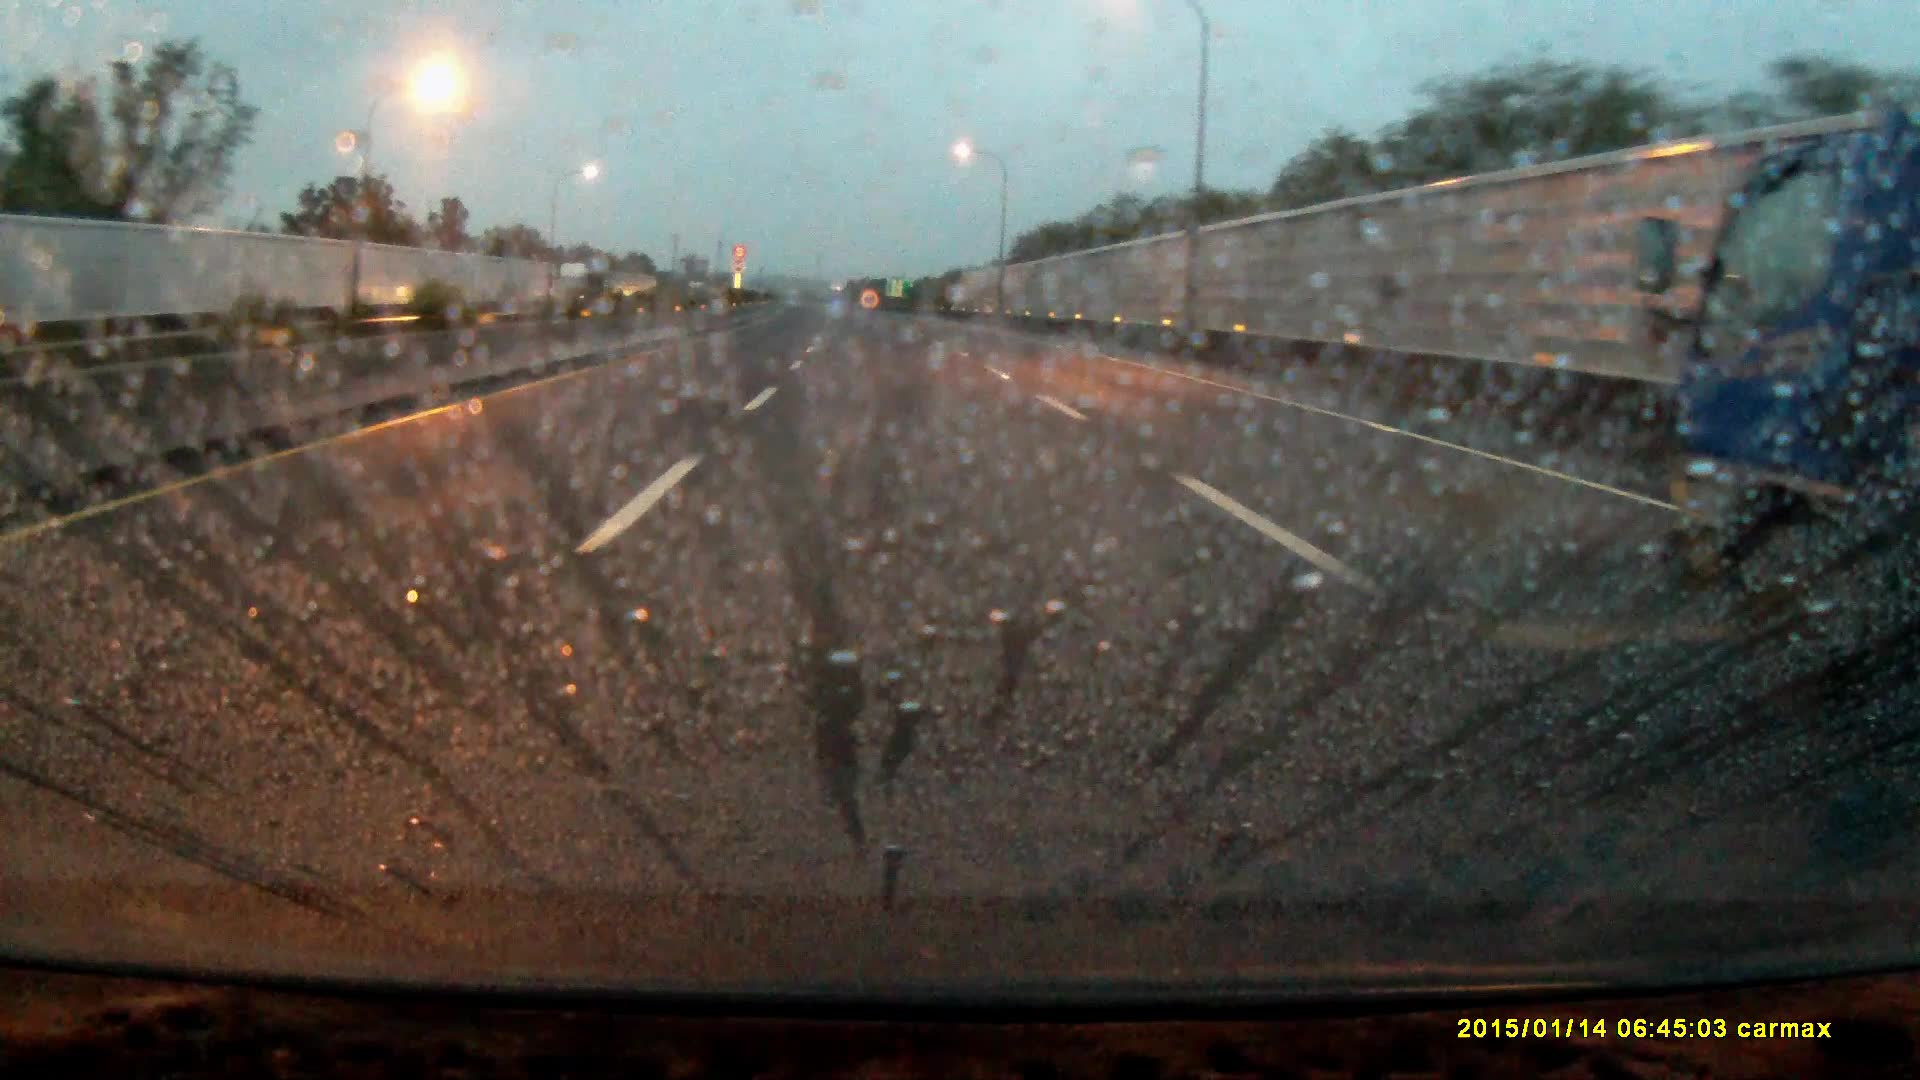vehicle: (1640, 132, 1920, 608), (554, 265, 603, 313)
